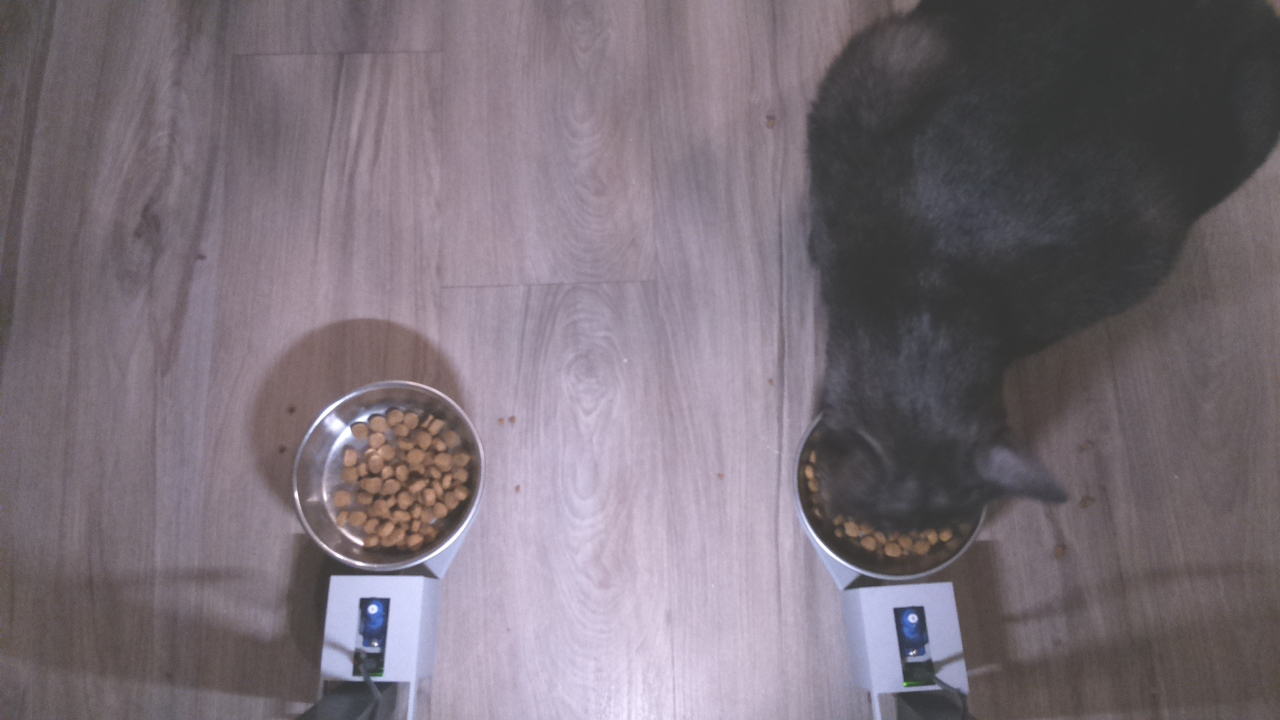open_bowl: (289, 378, 488, 578)
saki_eating: (754, 300, 1087, 582)
